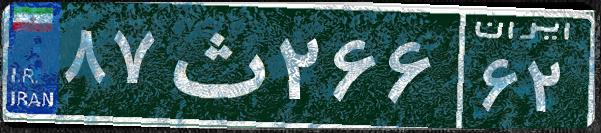2: (273, 28, 330, 110), (525, 38, 570, 115)
6: (385, 28, 445, 110), (330, 28, 385, 110), (475, 38, 525, 113)
7: (110, 28, 158, 105)
8: (57, 26, 110, 107)
ث: (158, 15, 273, 115)
